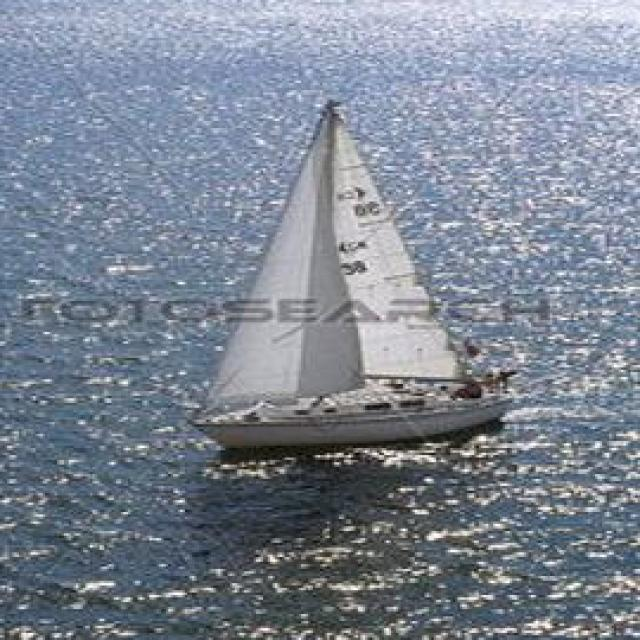sailboat: (187, 83, 528, 480)
